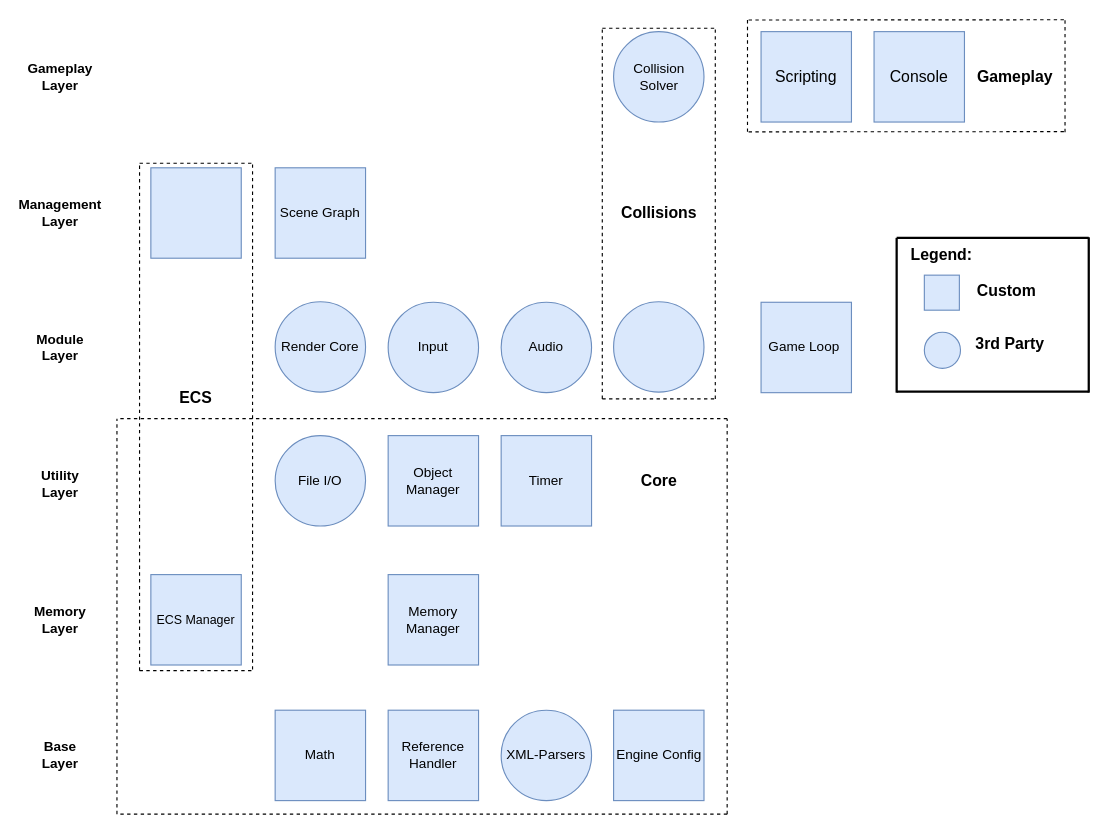
Image size: 1111x835. Some labels were removed from this diagram. Here are the shapes that lost their labels. From the top down, the centre of each, then its label:
At (195,212): "ECS Systems".
At (658,346): "Collision Detection".
